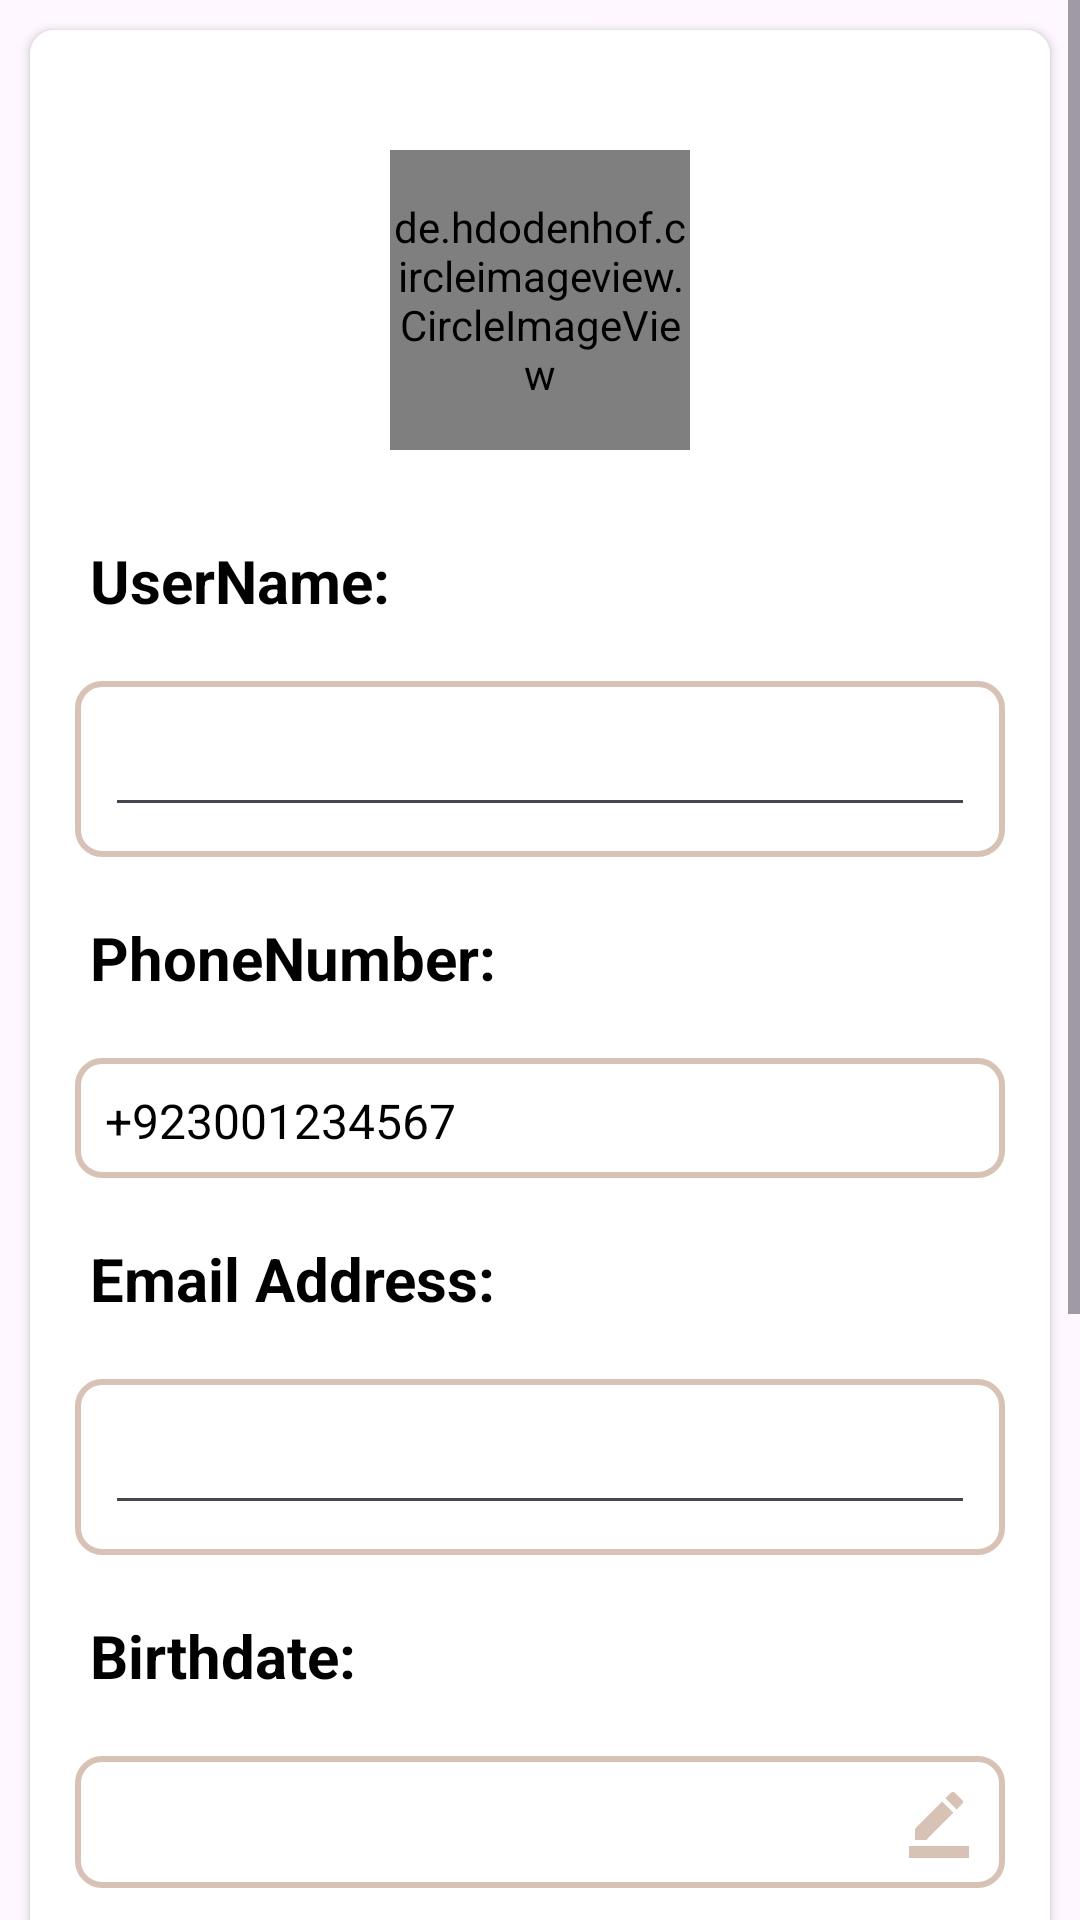

Icon bounding boxes for this 1080 x 1920 phone screenshot, format (x1, y1, x2, y2):
edit: (909, 1792, 969, 1858)
